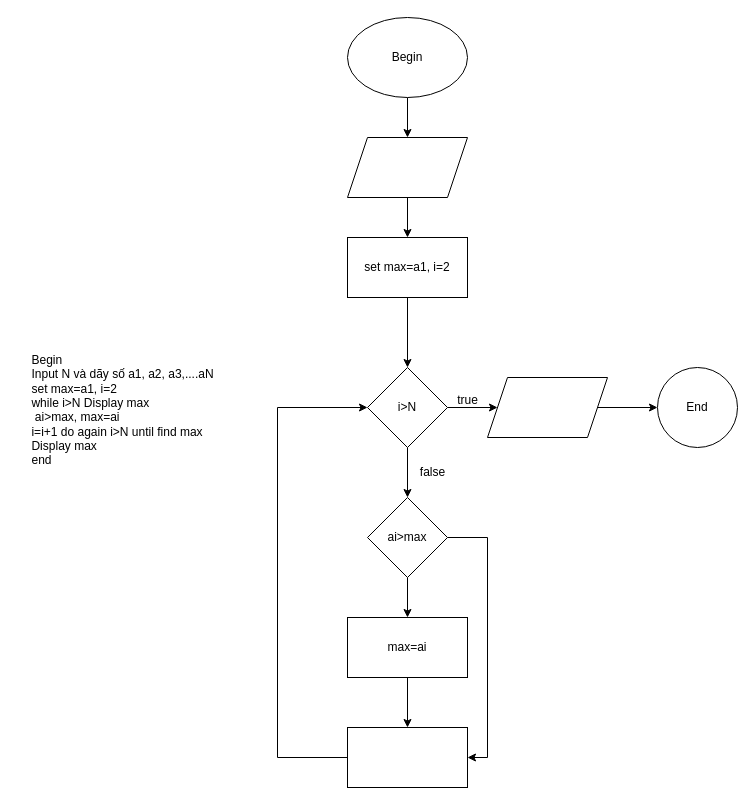
The diagram is 755 pixels wide and 805 high, and some of its shapes have lost their labels. The centre of each missing label's shape, as x and y in pixels:
"Display Max" goes at point 547,407.
"i=i+1" goes at point 407,757.
"Input N and a1,a2,a3,....aN" goes at point 407,167.
